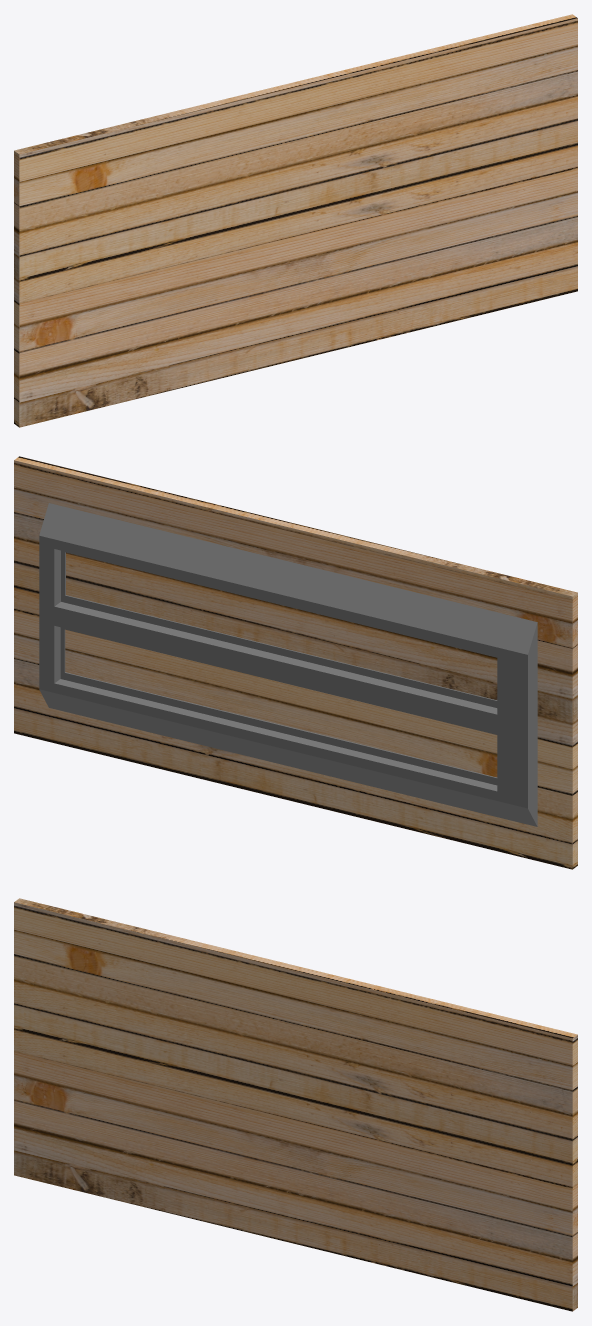
The model's file is table plank.dae.
3 views of the same model, one above another, from view 1: azimuth 30°, elevation 25°; view 2: azimuth 150°, elevation 25°; view 3: azimuth 330°, elevation 25° (orthographic).
Visible parts, largest first — view 1: Layer0_001; view 2: Layer0_001; view 3: Layer0_001.
Boxes of the visible parts, x1=… form: Layer0_001: x1=14, y1=14, x2=577, y2=427; Layer0_001: x1=14, y1=456, x2=577, y2=869; Layer0_001: x1=14, y1=898, x2=577, y2=1311.
Size of the model in its own units: 5.9 by 2.76 by 0.2776.
3 materials, 1 textured.
